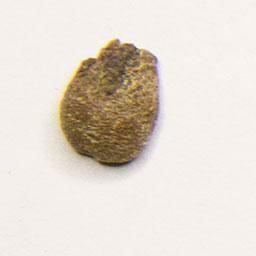defect: (54, 33, 167, 172)
